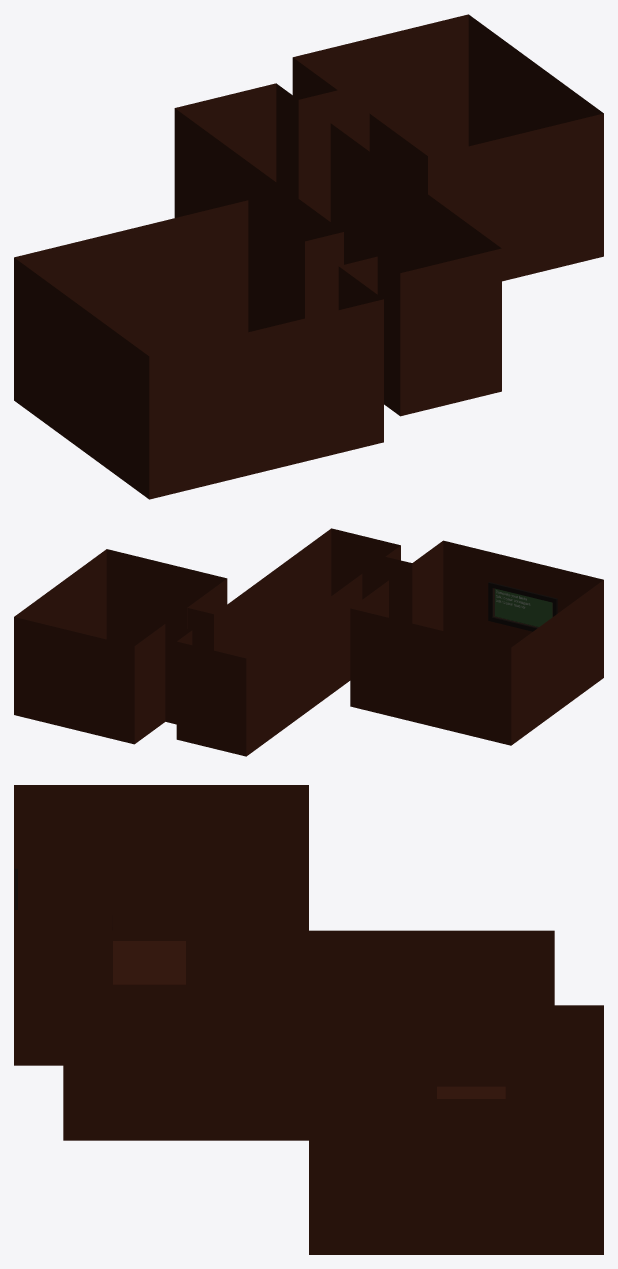
File: map.obj
The picture shows the model from 3 angles, top to bottom: view 1: azimuth 30°, elevation 25°; view 2: azimuth 150°, elevation 25°; view 3: azimuth 270°, elevation 25°; orthographic projection. The views are drawn at different scales.
Visible parts, largest first — view 1: layout; view 2: layout, Plane.001; view 3: layout.
Boxes of the visible parts, left/top/right/bottom form: layout: left=14, top=14, right=603, bottom=499; layout: left=14, top=528, right=603, bottom=756; Plane.001: left=488, top=582, right=557, bottom=631; layout: left=14, top=785, right=603, bottom=1254.
Bounding box in the file's own units: 30.2 × 7 × 24.
